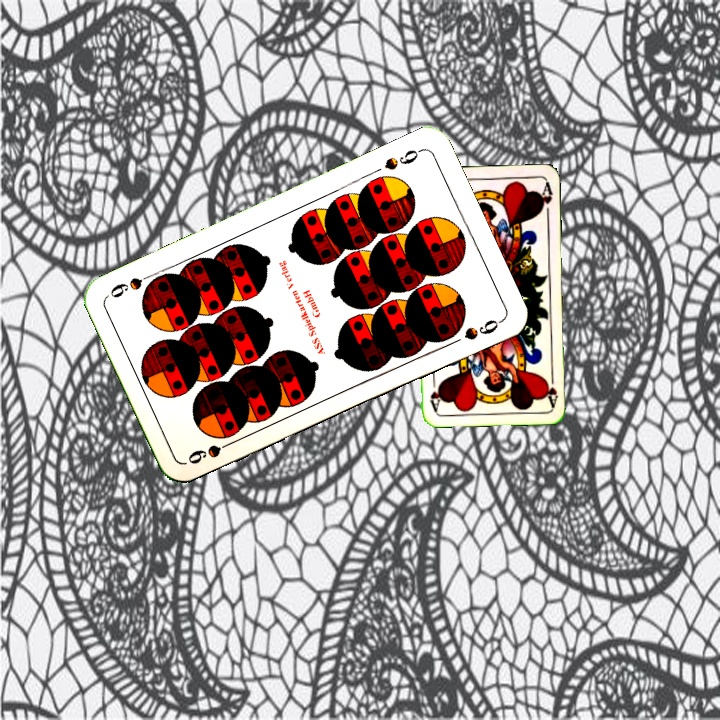HA: (541, 367, 560, 408)
S9: (183, 435, 240, 467), (380, 144, 425, 173)
